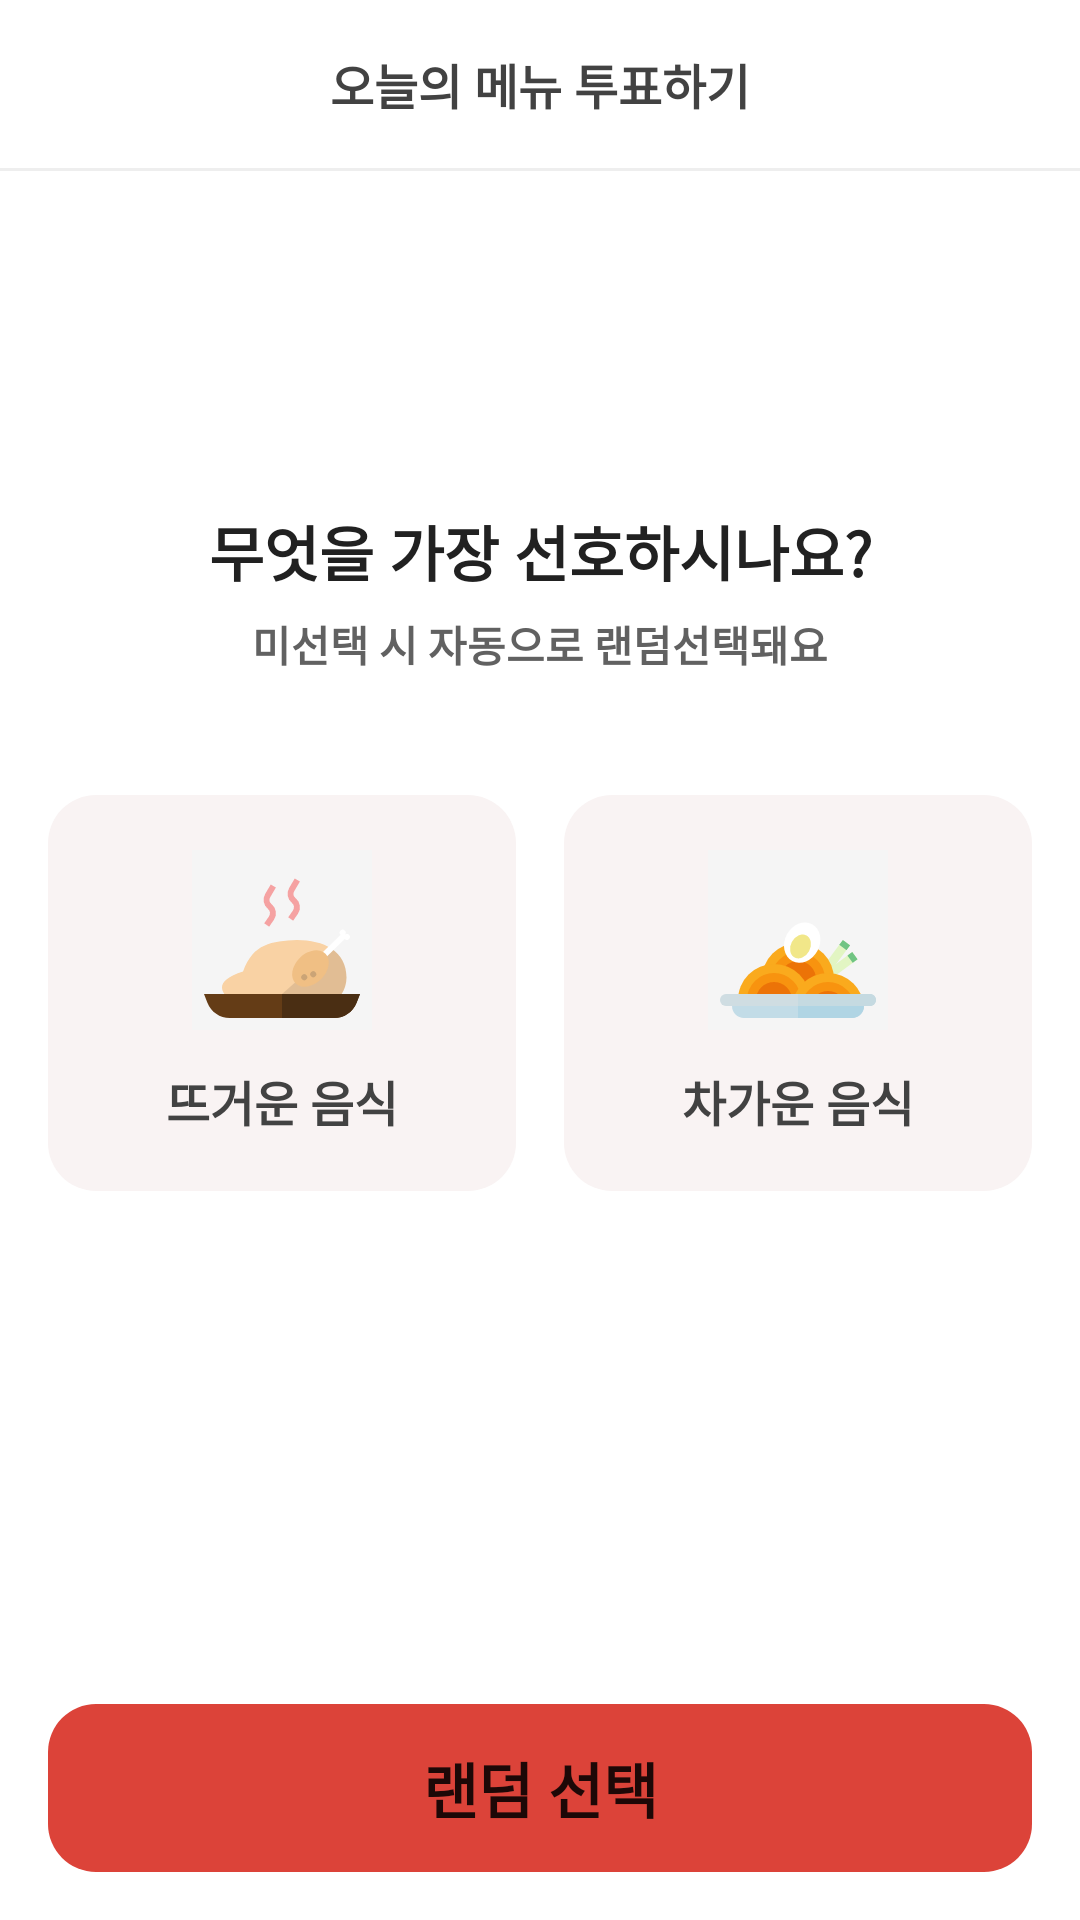

Locate icon controls on the screen. Image size 1080px x 1920px, boxes as region(x1, y1, x2, y2).
hot: region(204, 879, 360, 1018)
